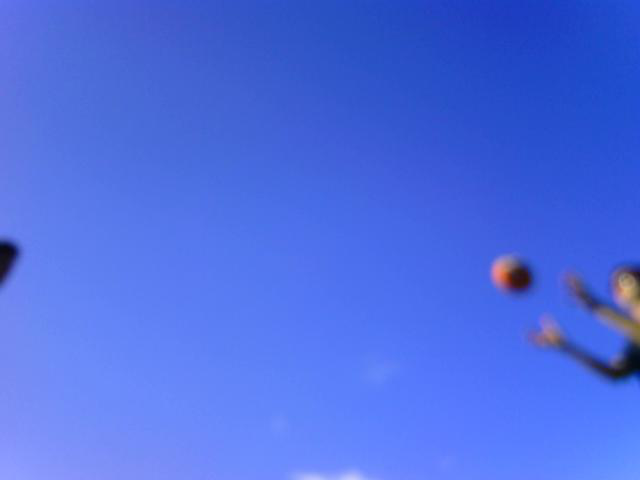football: (489, 251, 536, 295)
